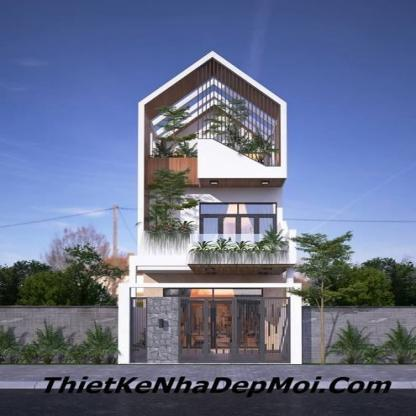Balcony: (190, 234, 289, 258), (198, 139, 281, 167)
Building Outline: (118, 50, 303, 364)
Door: (165, 301, 261, 348)
Facade: (118, 50, 302, 364)
Floor Slab: (139, 259, 295, 270), (198, 167, 288, 178)
Window: (145, 59, 282, 166), (214, 290, 262, 301), (165, 290, 213, 301), (204, 218, 219, 244), (259, 218, 273, 244), (239, 204, 275, 214), (201, 204, 237, 214), (241, 218, 254, 244), (224, 218, 236, 244)
